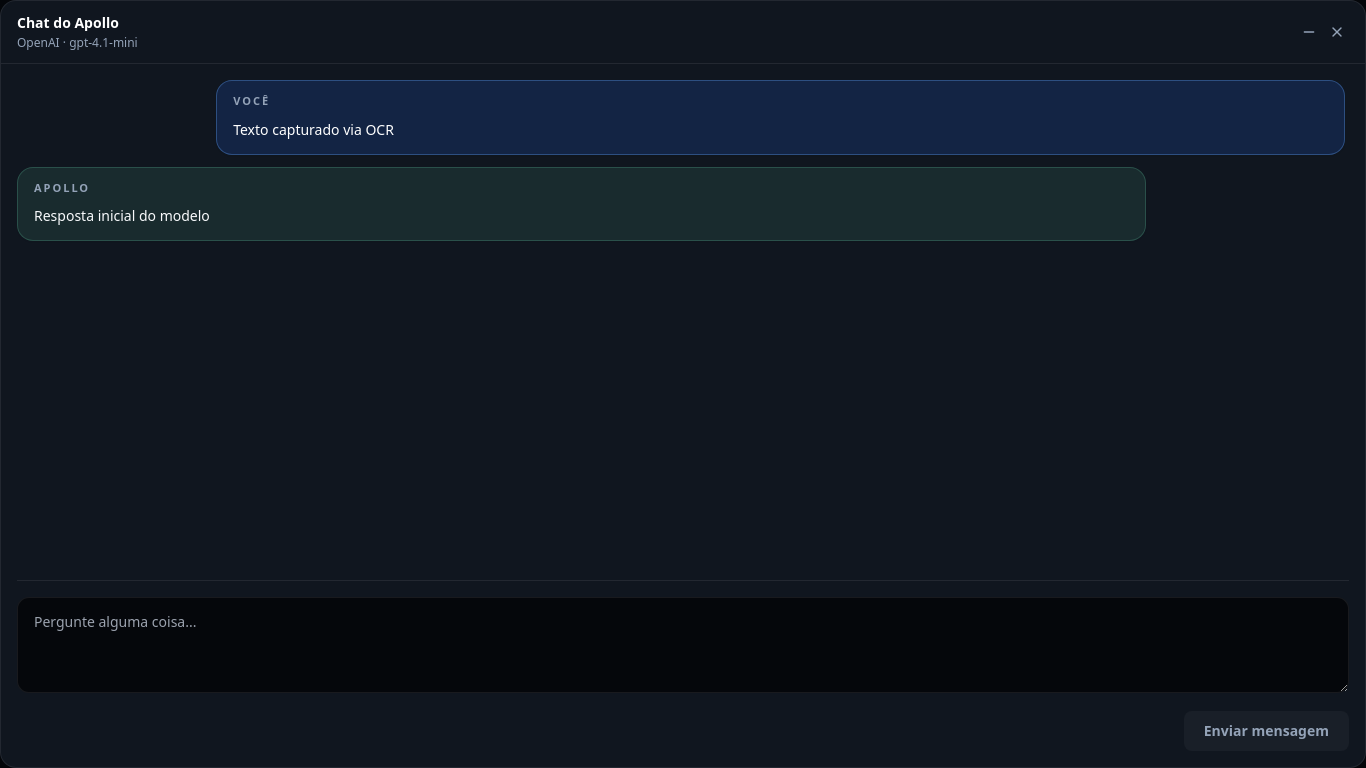
it: ResponseWindow › continues the conversation from the response window and syncs the app window
Type "Me de mais exemplos" into the text box with test id "chat-composer".
click(683, 645); type("Me de mais exemplos")  # box [17,597,1349,693]
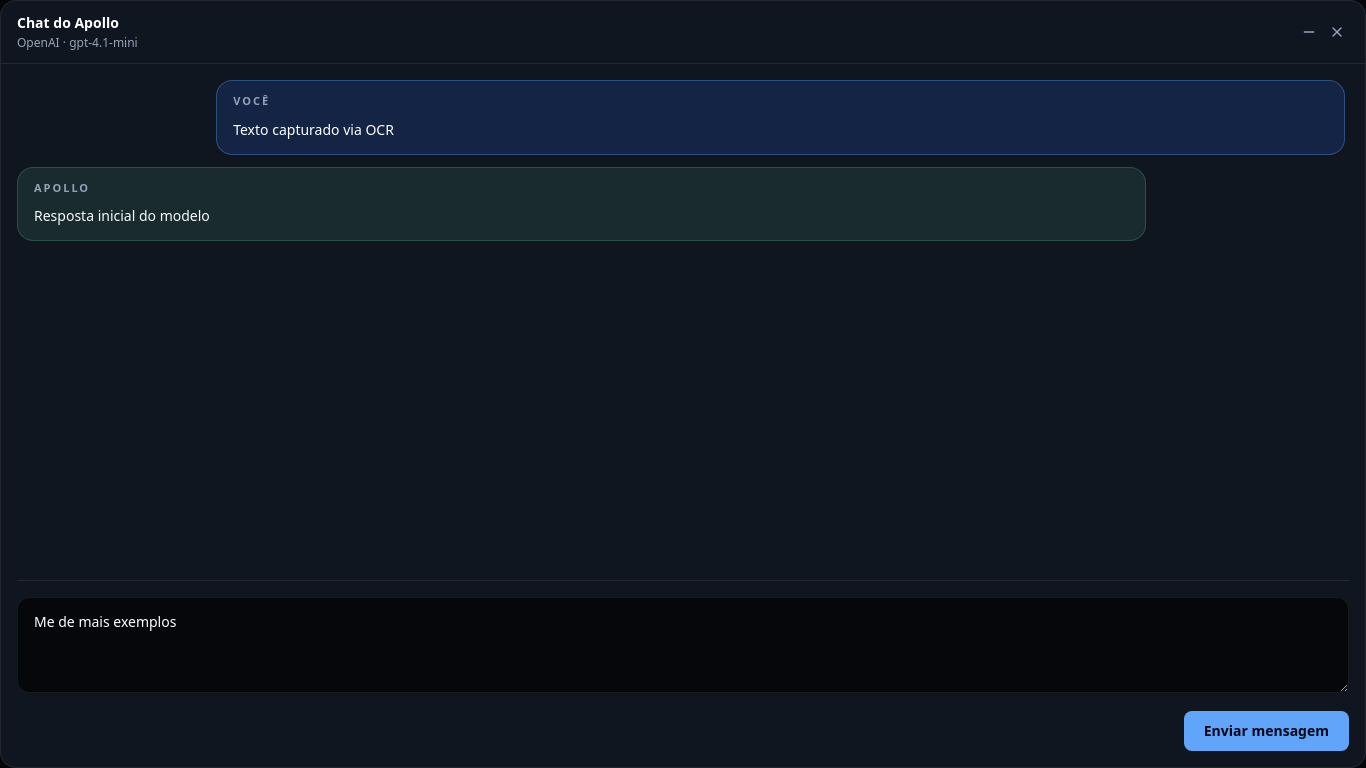
Submit the form, box [17,580,1349,751]
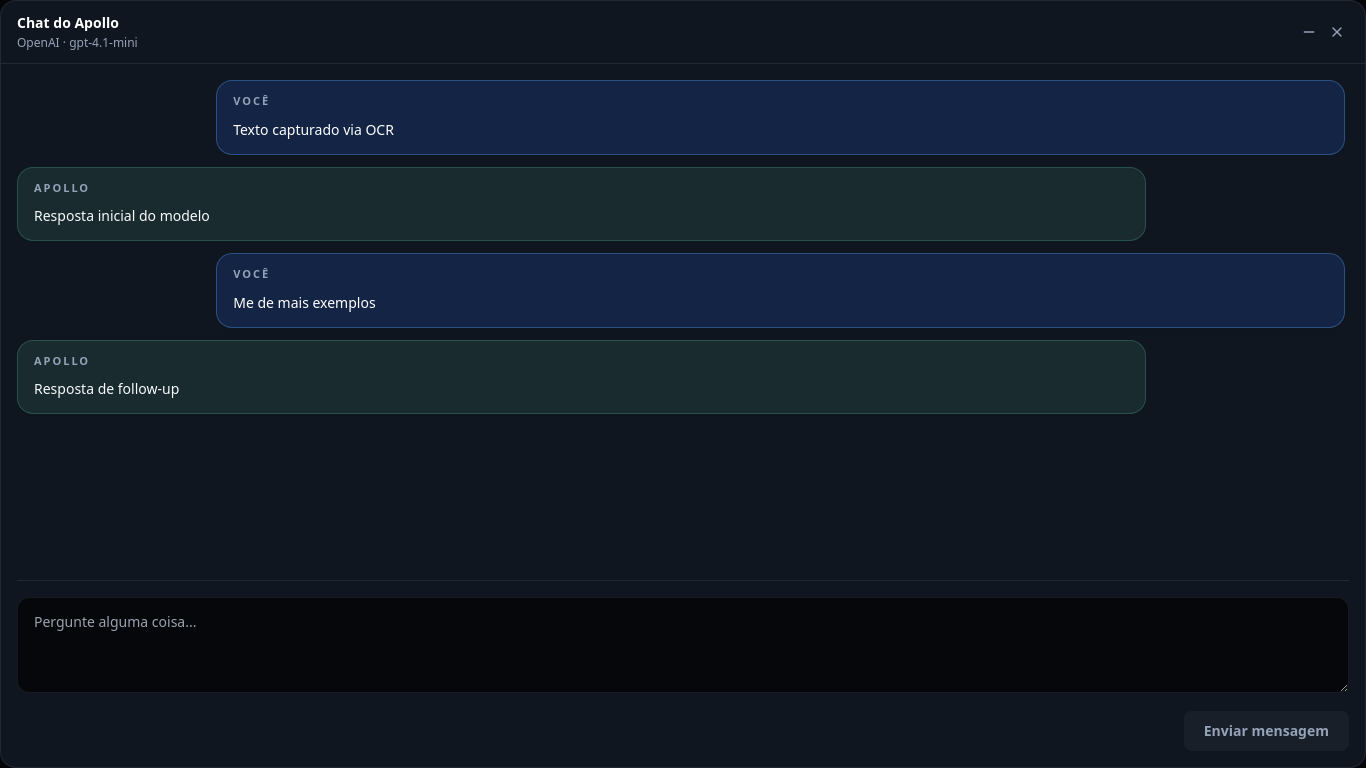
Result: the text "Me de mais exemplos" is shown at [233,292,376,312]
Result: the text "Resposta de follow-up" is shown at [34,379,179,398]
